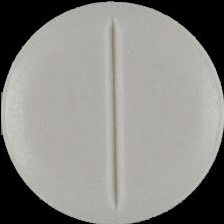76237-121: (0, 0, 224, 224)
